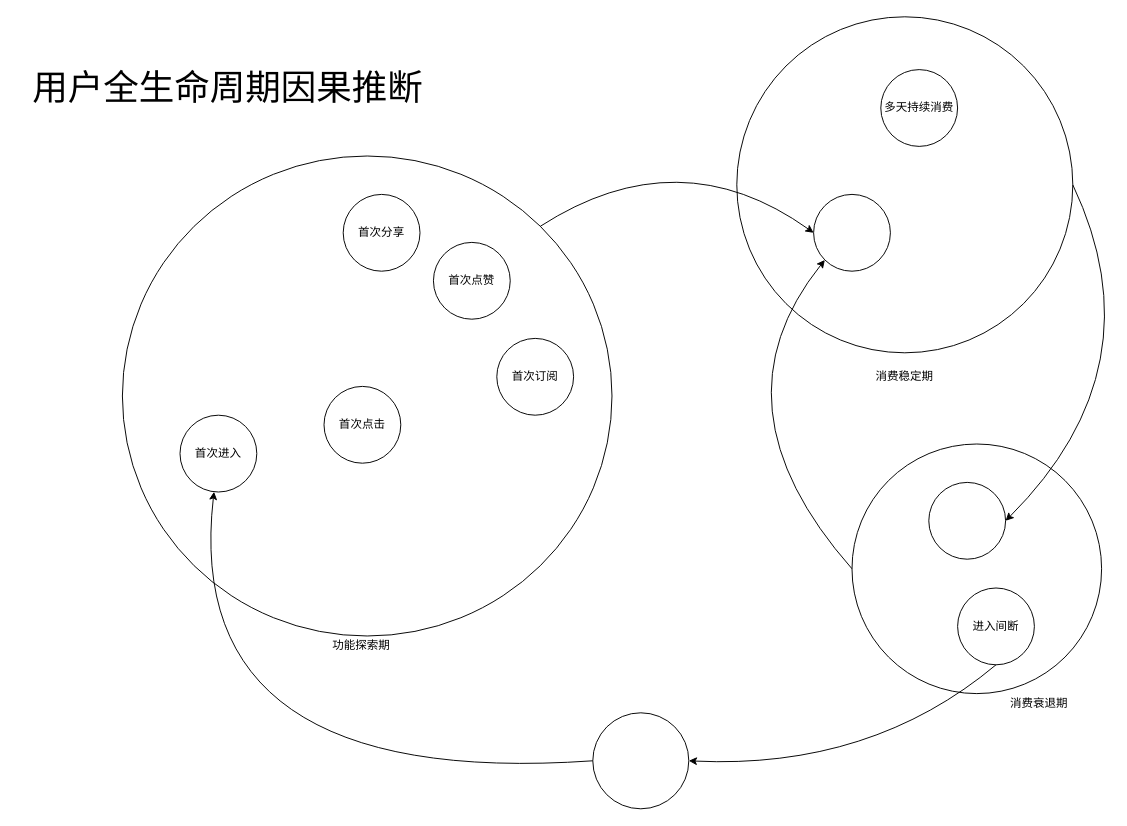
Some shapes in this 1127 by 826 pixel diagram are drawn without their labels. Here are the shapes that lost their labels. From the top down, the centre of each, then its label:
[851,232]: 持续消费
[967,520]: 消费间断
[640,760]: 沉默用户
